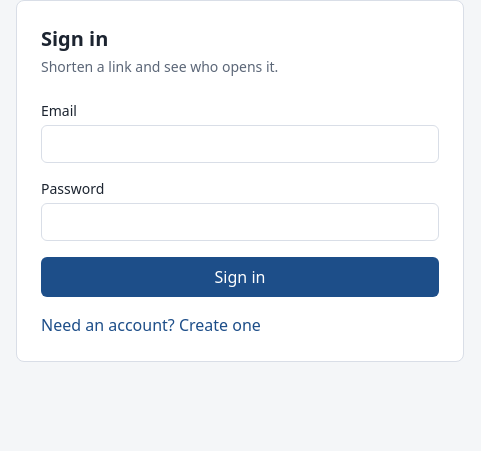
Test case: LoginPage › shows the API validation message
The width and height of the screenshot is (481, 451).
Type "ada@example.com" into the field labelled "Email".
click(240, 144); type("ada@example.com")  # box [41,125,439,163]
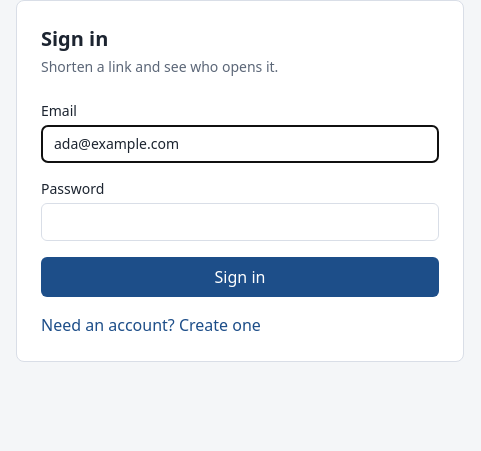
Type "password123" into the password field labelled "Password".
click(240, 222); type("password123")  # box [41,203,439,241]
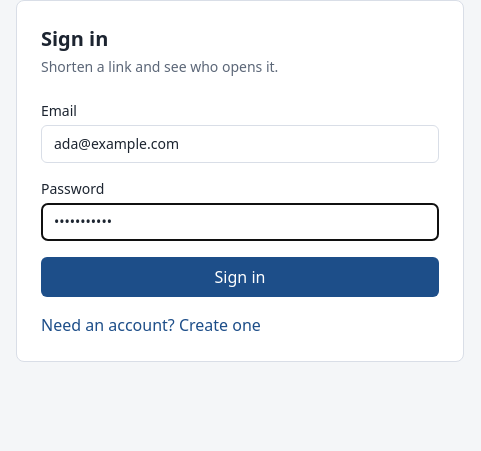
Click the button "Sign in".
click(240, 277)  # box [41,257,439,297]
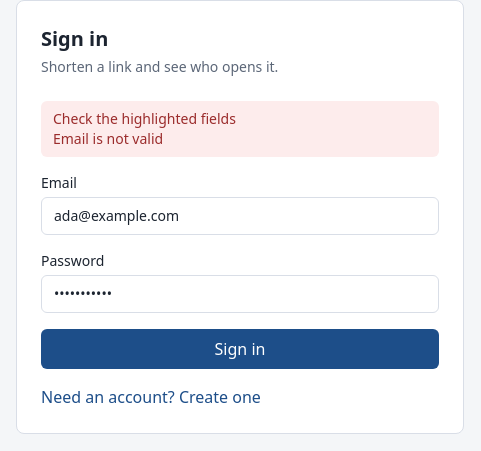
Expected: the message shows "Email is not valid", [53,129,163,148]
